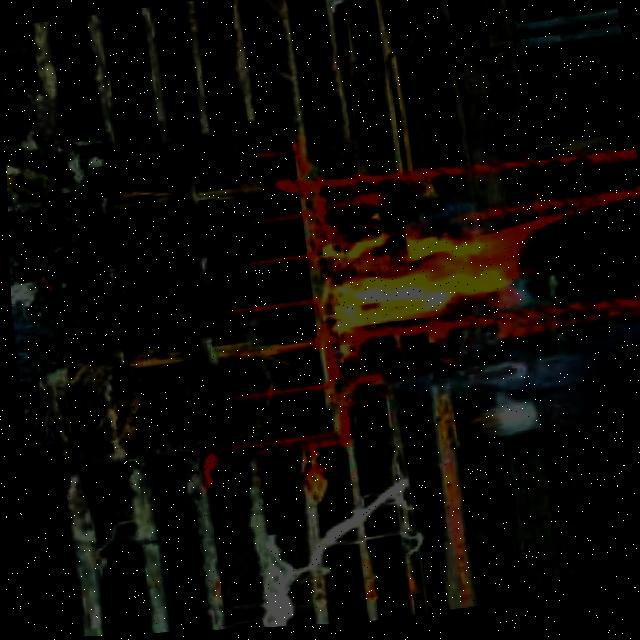Fire: (308, 218, 522, 340)
